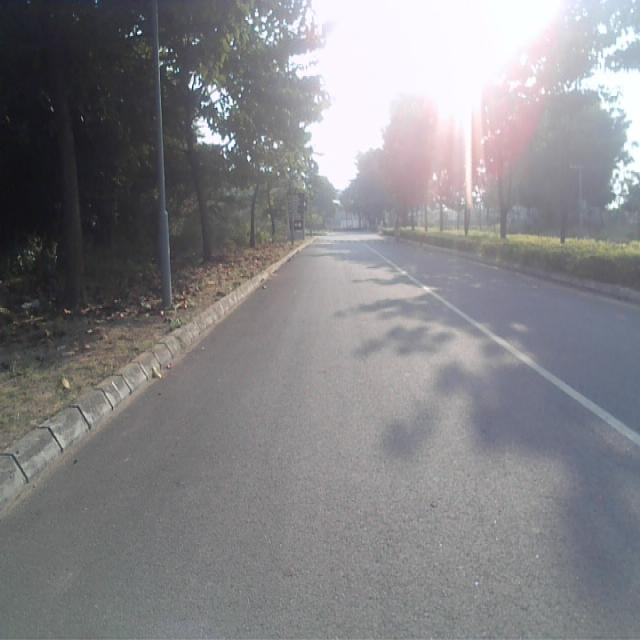lane: (0, 238, 640, 640)
